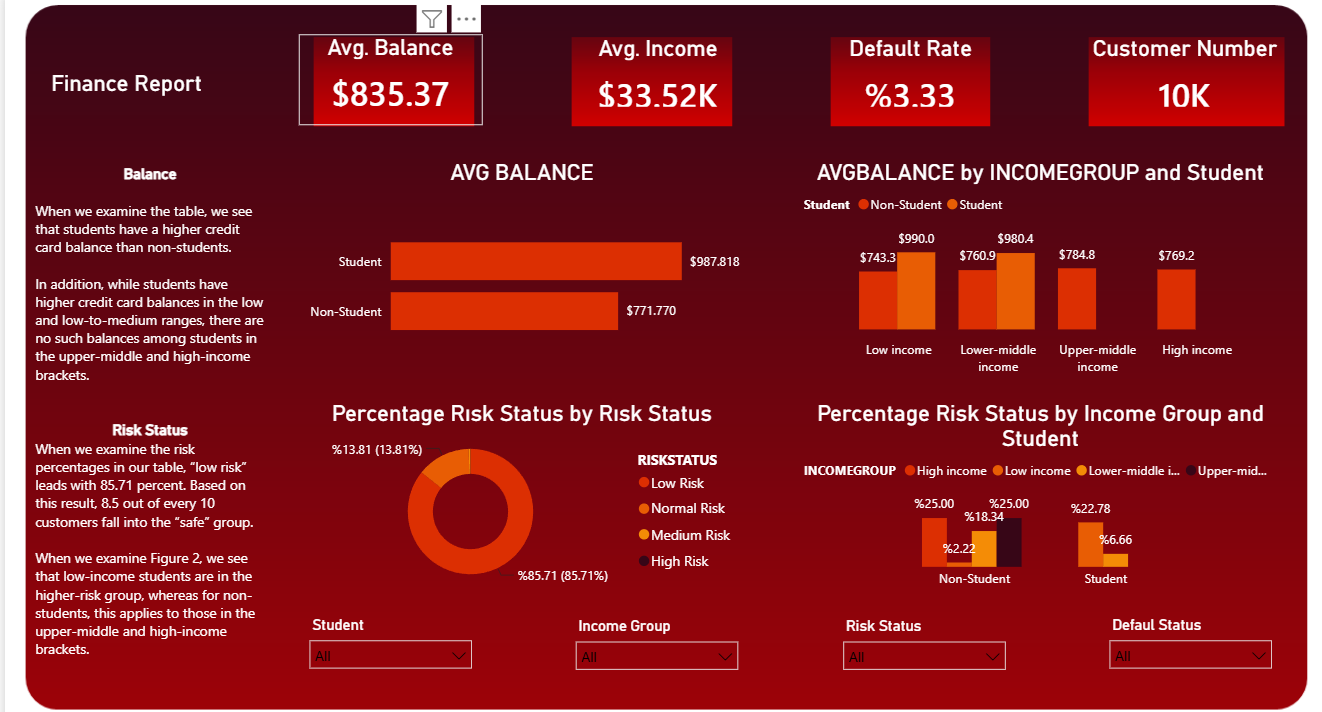

The page's visual inventory and layout, read from the dashboard file:
{"tool":"powerbi","page":{"name":"Page 1","canvas":[1280,720],"ordinal":0},"visuals":[{"type":"cardVisual","title":"Avg. Balance","fields":{"Data":["Avg(Finance.balance)"]},"box":[284,39.8,177,87.8],"z":0},{"type":"cardVisual","title":"Avg. Income","fields":{"Data":["Avg(Finance.income)"]},"box":[540.7,41.2,179.8,86.4],"z":1000},{"type":"cardVisual","title":"Default Rate","fields":{"Data":["Finance.YESDEFAULTRATE"]},"box":[798.6,41.2,150.9,86.4],"z":2000},{"type":"cardVisual","title":"Customer Number","fields":{"Data":["CountNonNull(Finance.Customer_id)"]},"box":[1044.3,41.2,188,86.4],"z":3000},{"type":"clusteredBarChart","title":"AVG BALANCE","fields":{"Category":["Finance.student"],"Y":["Finance.AVGBALANCE"]},"box":[284,160.5,430.9,215.4],"z":4000},{"type":"clusteredColumnChart","title":"AVGBALANCE by INCOMEGROUP and Student","fields":{"Category":["Finance.INCOMEGROUP_LABEL"],"Y":["Finance.AVGBALANCE"],"Series":["Finance.student"]},"box":[765.7,160.5,466.6,215.4],"z":5000},{"type":"donutChart","title":"Percentage Rısk Status by Rısk Status","fields":{"Category":["Finance.RISKSTATUS"],"Y":["Finance.PERCANTAGERISKSTATUS"]},"box":[284,393.8,430.9,190.7],"z":6000},{"type":"clusteredColumnChart","title":"Percentage Risk Status by Income Group and Student","fields":{"Category":["Finance.student"],"Series":["Finance.INCOMEGROUP_LABEL"],"Y":["Finance.PERCANTAGERISKSTATUS"]},"box":[765.7,393.8,466.6,190.7],"z":7000},{"type":"textbox","box":[24.7,52.1,186.6,94.7],"z":8000},{"type":"slicer","fields":{"Values":["Finance.student"]},"box":[284,595.5,177,90.6],"z":9000},{"type":"slicer","fields":{"Values":["Finance.INCOMEGROUP_LABEL"]},"box":[540.7,596.9,177,89.2],"z":10000},{"type":"slicer","fields":{"Values":["Finance.RISKSTATUS"]},"box":[798.6,596.9,177,89.2],"z":11000},{"type":"slicer","fields":{"Values":["Finance.default_status"]},"box":[1055.2,595.5,177,90.6],"z":12000},{"type":"textbox","box":[24.7,160.5,231.9,233.3],"z":13000},{"type":"textbox","box":[24.7,407.5,231.9,259.3],"z":14000}]}

Visuals, with their boxes on the page's 1280x720 design canvas (x1, y1, x2, y2). These are canvas units, not pixel positions in the 1322x712 screenshot, which may show the page scaled, cropped or inside an application window:
"Avg. Balance" cardVisual: bbox(284, 40, 461, 128)
"Avg. Income" cardVisual: bbox(541, 41, 720, 128)
"Default Rate" cardVisual: bbox(799, 41, 950, 128)
"Customer Number" cardVisual: bbox(1044, 41, 1232, 128)
"AVG BALANCE" clusteredBarChart: bbox(284, 160, 715, 376)
"AVGBALANCE by INCOMEGROUP and Student" clusteredColumnChart: bbox(766, 160, 1232, 376)
"Percentage Rısk Status by Rısk Status" donutChart: bbox(284, 394, 715, 584)
"Percentage Risk Status by Income Group and Student" clusteredColumnChart: bbox(766, 394, 1232, 584)
textbox: bbox(25, 52, 211, 147)
slicer - Finance.student: bbox(284, 596, 461, 686)
slicer - Finance.INCOMEGROUP_LABEL: bbox(541, 597, 718, 686)
slicer - Finance.RISKSTATUS: bbox(799, 597, 976, 686)
slicer - Finance.default_status: bbox(1055, 596, 1232, 686)
textbox: bbox(25, 160, 257, 394)
textbox: bbox(25, 408, 257, 667)
